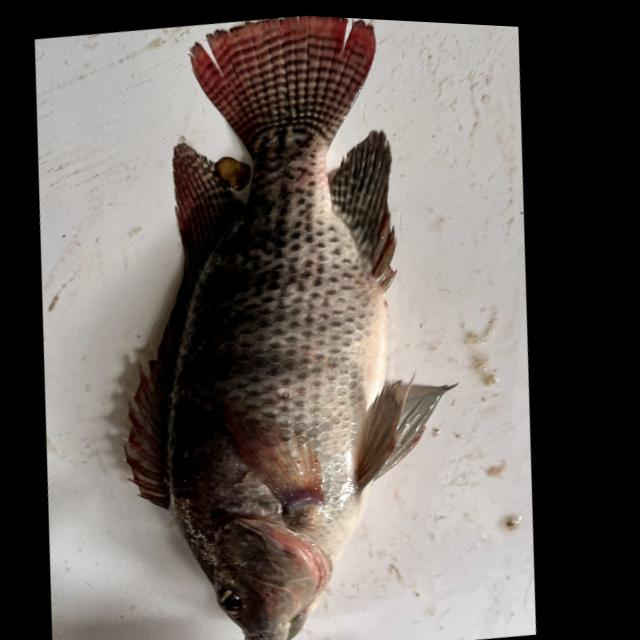Tilapia: (45, 6, 532, 640)
